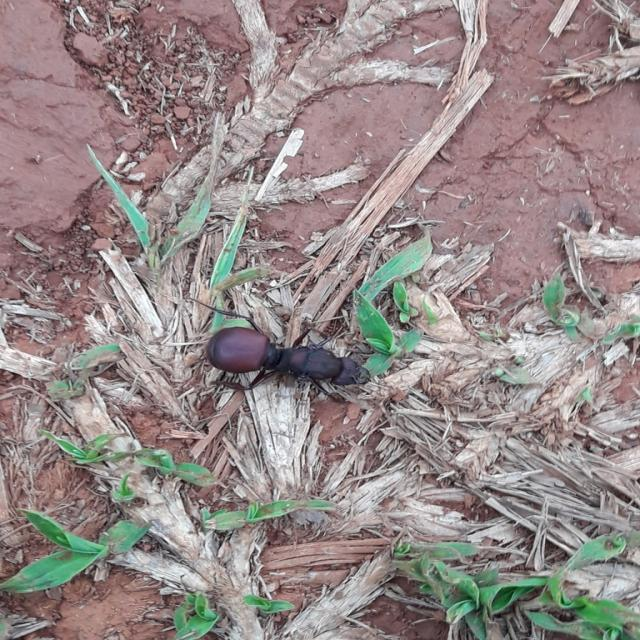Alive-Female-Dealate: (187, 297, 372, 404)
